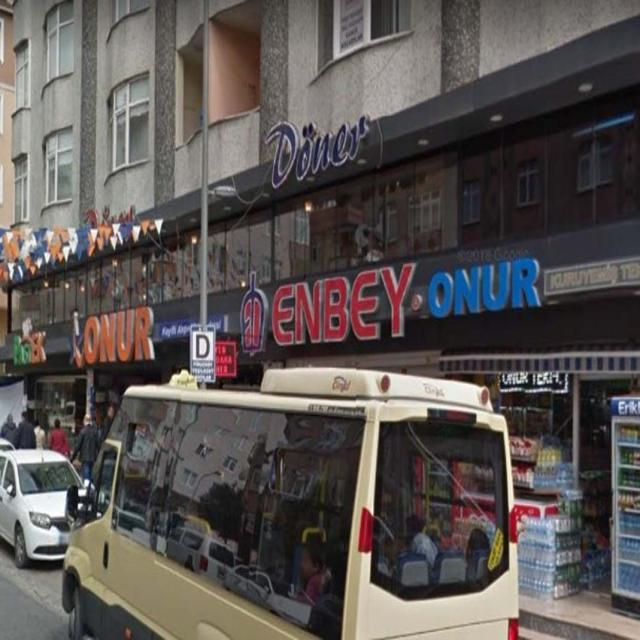durak: (190, 328, 214, 364)
